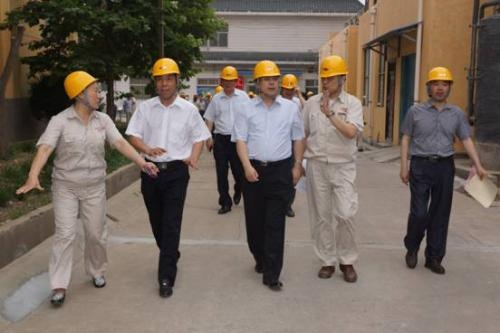yellow: (62, 68, 102, 112), (251, 58, 281, 98), (318, 55, 347, 96), (152, 57, 180, 99), (426, 65, 453, 100), (279, 72, 298, 98), (219, 66, 238, 91)
